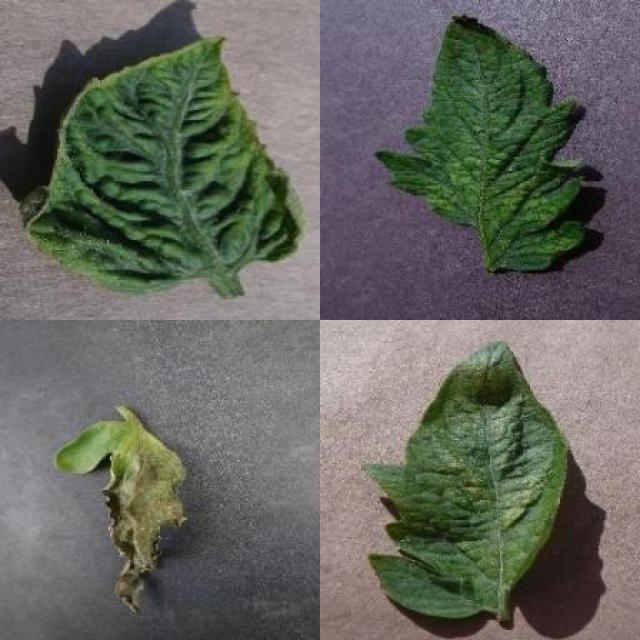Late Blight: (56, 420, 190, 620)
Mosaic Virus: (372, 10, 588, 274)
Spider Mites: (363, 336, 570, 616)
Yellow Leaf Curl Virus: (22, 34, 308, 296)
